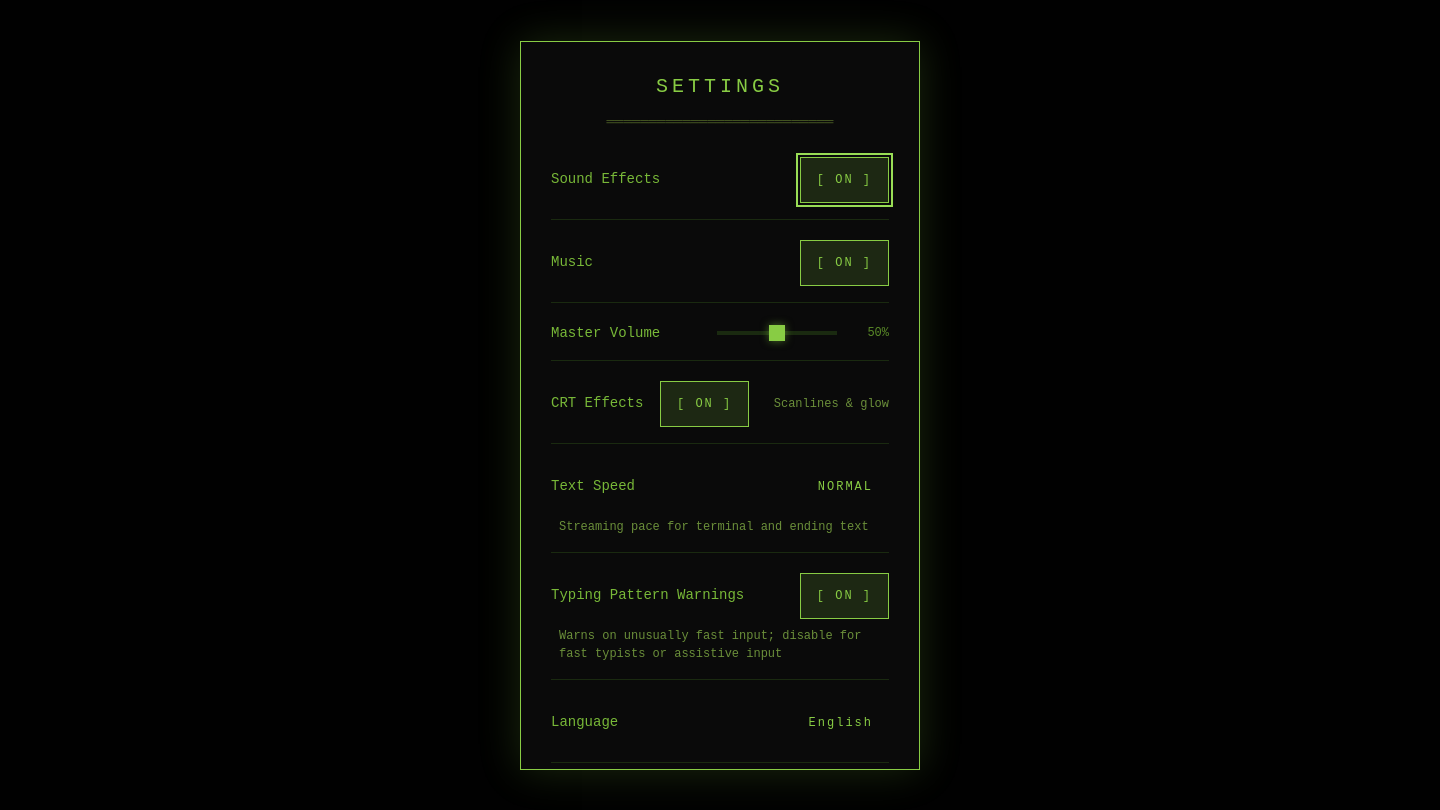
Test: SettingsModal › cycles text speed and saves to shared options storage
Click the button "NORMAL": [845, 486] box [802,464,889,510]
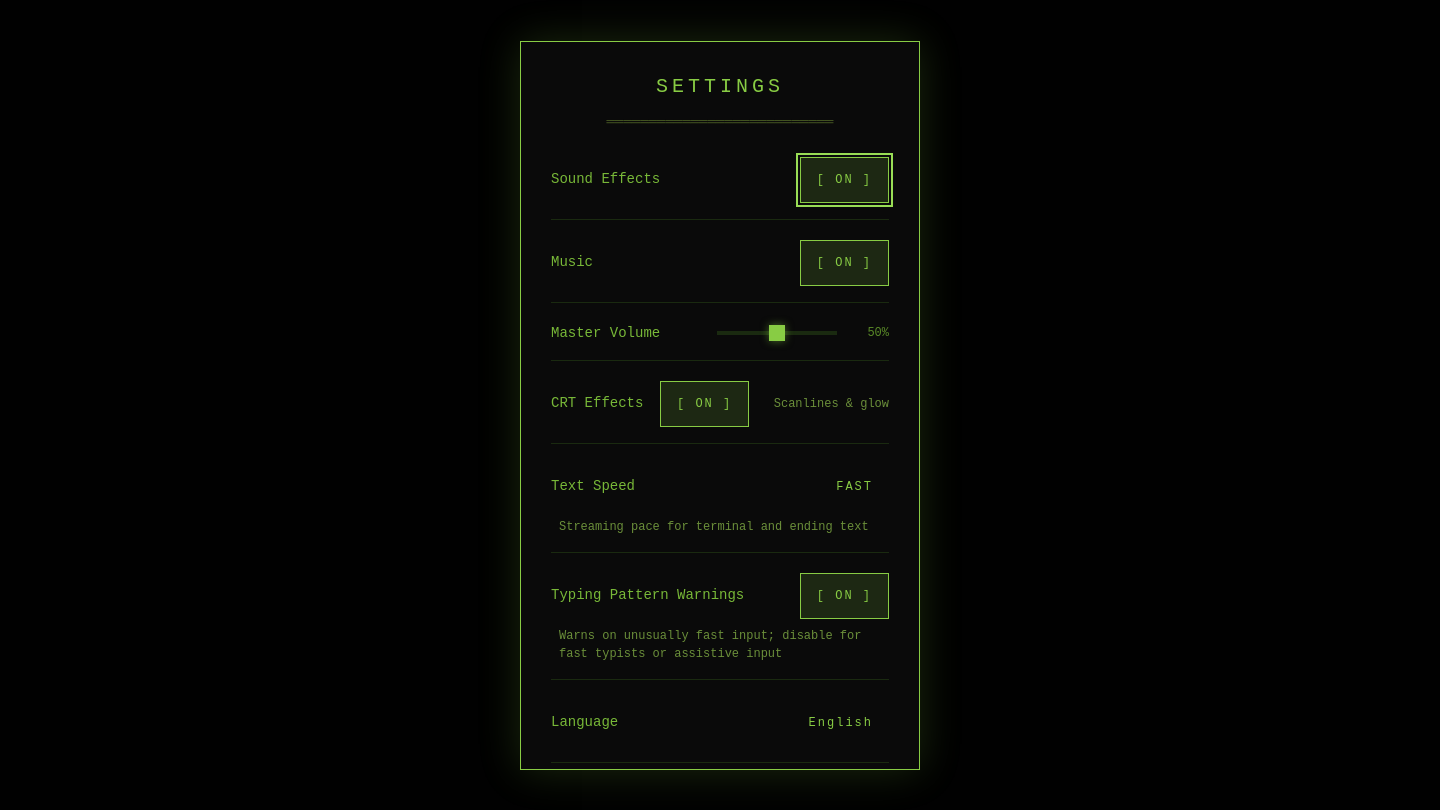
Expected: the button "FAST" is shown, [820,464,889,510]
